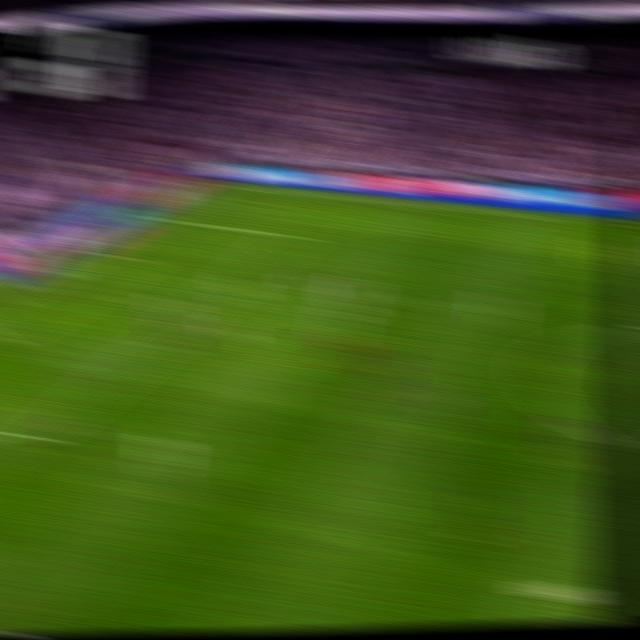bigarea_bottom_inner: (19, 424, 52, 450)
bigarea_top_inner: (279, 225, 308, 244)
bigarea_top_outter: (141, 210, 167, 221)
bottom_arc_area_intersection: (137, 339, 166, 355)
corner: (200, 178, 229, 189)
smallarea_bottom_inner: (0, 327, 20, 348)
smallarea_top_inner: (125, 253, 151, 264)
